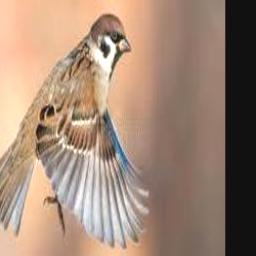Sparrow: (0, 14, 148, 248)
